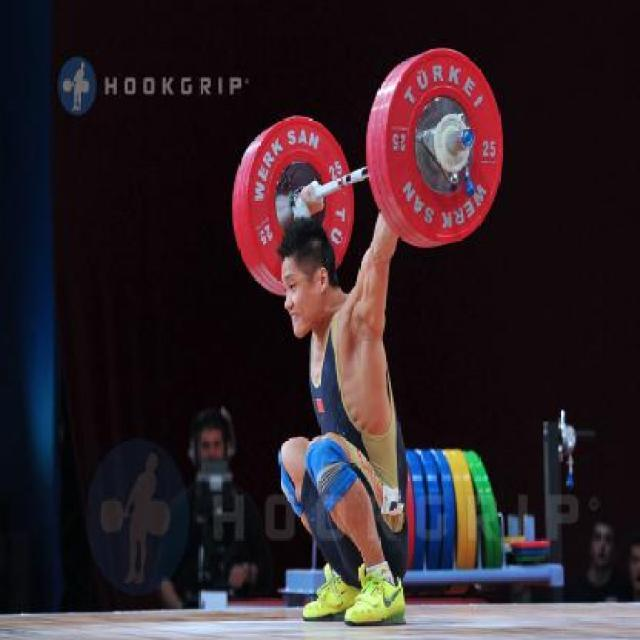Barbell: (459, 122, 476, 153)
